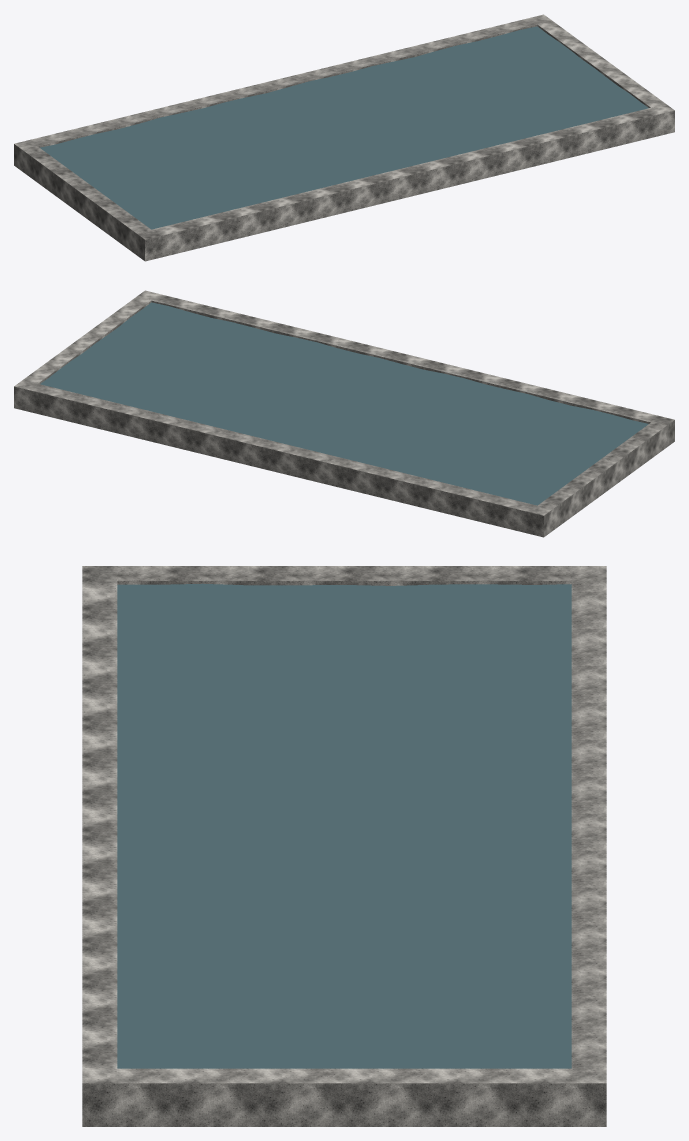
The model's file is museum_pool.fbx.
3 views of the same model, one above another, from view 1: azimuth 30°, elevation 25°; view 2: azimuth 150°, elevation 25°; view 3: azimuth 270°, elevation 25° (orthographic). The views are drawn at different scales.
Parts seen in each view (by area): view 1: museum_pool; view 2: museum_pool; view 3: museum_pool.
Part boxes in pixels (x1,y1,x2,y2): museum_pool: (14, 14, 674, 261); museum_pool: (14, 290, 674, 537); museum_pool: (82, 566, 606, 1126).
Size of the model in its own units: 1400 by 55 by 600.
